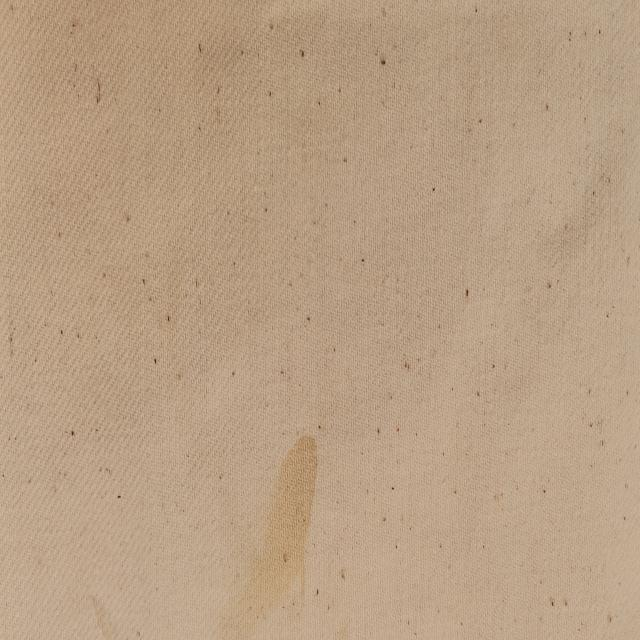taaaches: (231, 407, 329, 640)
